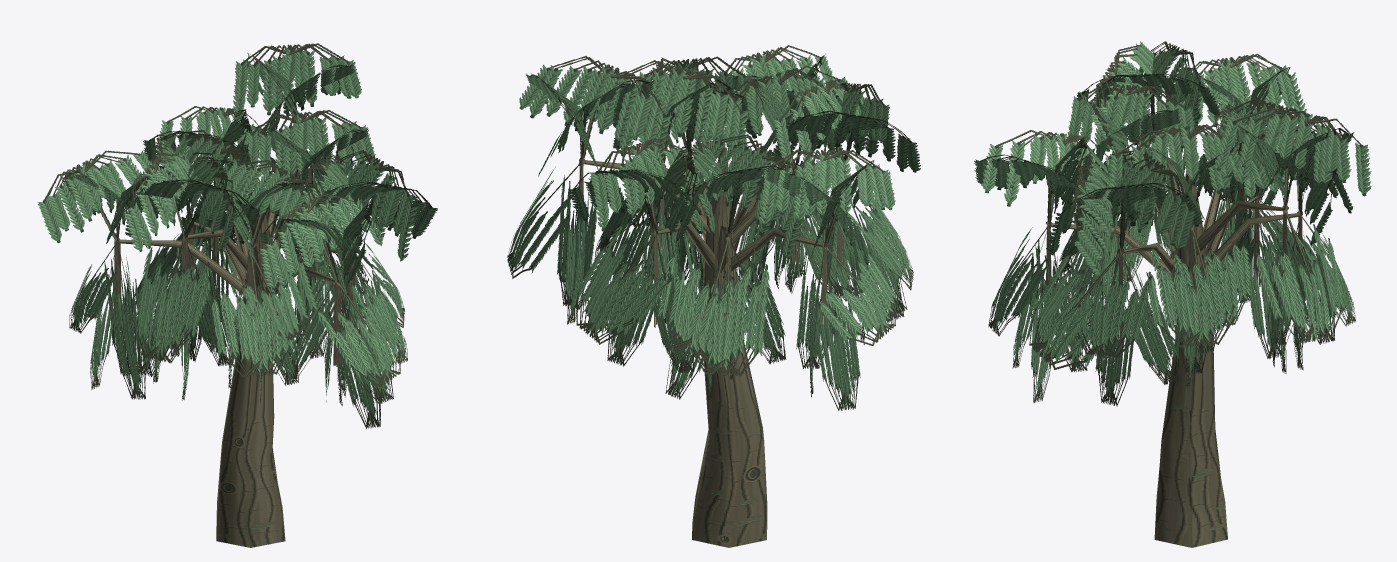
Rendered from marsh-willow-near.glb.
3 views of the same model, side by side, from view 1: azimuth 30°, elevation 25°; view 2: azimuth 150°, elevation 25°; view 3: azimuth 270°, elevation 25° (orthographic). The views are drawn at different scales.
Visible parts, largest first — view 1: Marsh willow near v3 runtime; view 2: Marsh willow near v3 runtime; view 3: Marsh willow near v3 runtime.
Part boxes in pixels (x1,y1,x2,y2): Marsh willow near v3 runtime: [37, 43, 437, 547]; Marsh willow near v3 runtime: [507, 45, 920, 547]; Marsh willow near v3 runtime: [974, 41, 1371, 547].
Size of the model in its own units: 6.92 by 8.44 by 6.8.
Materials: 1 (1 with a texture image).
